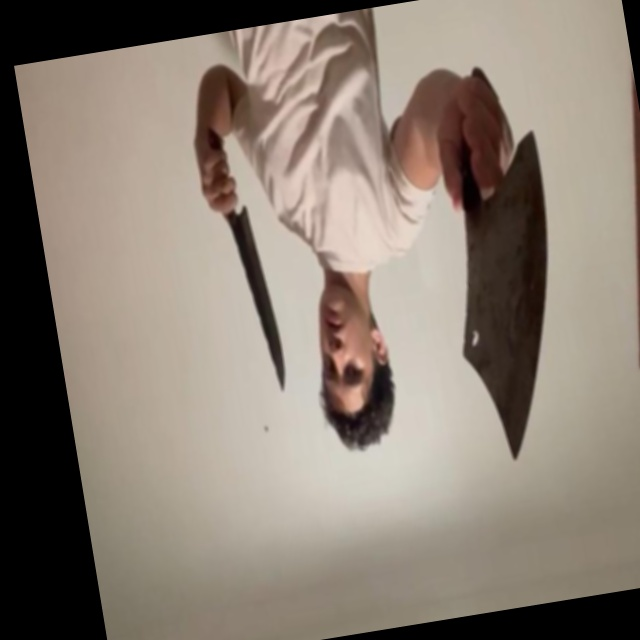Sharp-Object: (429, 133, 587, 467), (229, 205, 290, 394)
